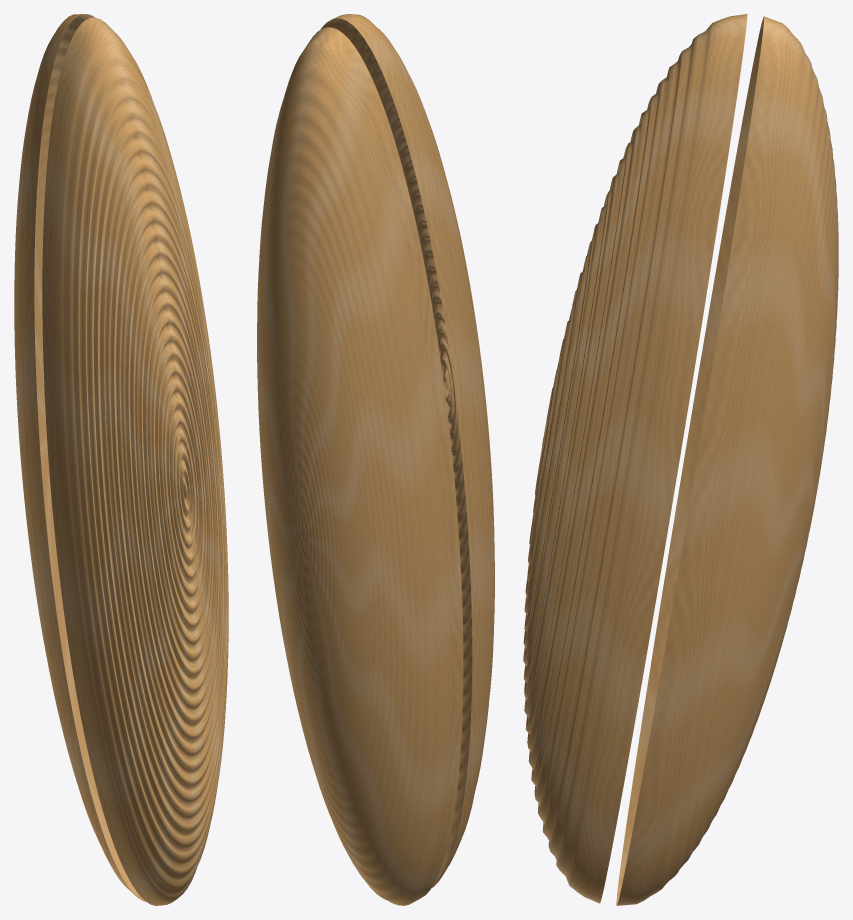
File: razor-clam.glb
3 renders of one model, left to right at view 1: azimuth 30°, elevation 25°; view 2: azimuth 150°, elevation 25°; view 3: azimuth 270°, elevation 25°, orthographic. The views are drawn at different scales.
Visible parts, largest first — view 1: razor-clam.001; view 2: razor-clam.001; view 3: razor-clam.001.
Part boxes in pixels (x1,y1,x2,y2): razor-clam.001: (14, 14, 228, 905); razor-clam.001: (257, 14, 494, 905); razor-clam.001: (523, 14, 838, 905).
Bounding box in the file's own units: 0.4515 × 2.4 × 0.7733.
Materials: 2 (2 with a texture image).
